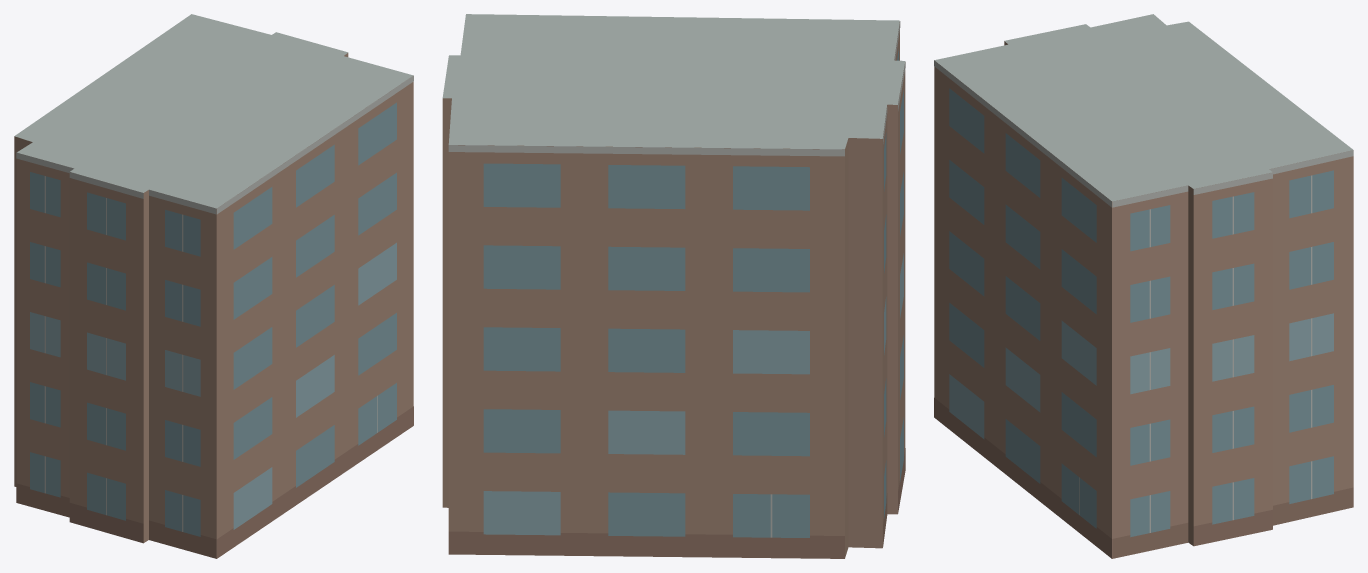
Rendered from survey-upis-32892890.glb.
3 views of the same model, side by side, from view 1: azimuth 30°, elevation 25°; view 2: azimuth 150°, elevation 25°; view 3: azimuth 270°, elevation 25° (orthographic). The views are drawn at different scales.
Parts seen in each view (by area): view 1: survey-upis-32892890.tmp; view 2: survey-upis-32892890.tmp; view 3: survey-upis-32892890.tmp.
Part boxes in pixels (x1,y1,x2,y2): survey-upis-32892890.tmp: [14, 14, 413, 558]; survey-upis-32892890.tmp: [442, 14, 905, 558]; survey-upis-32892890.tmp: [934, 14, 1353, 558].
Size of the model in its own units: 16 by 14.2 by 15.12.
